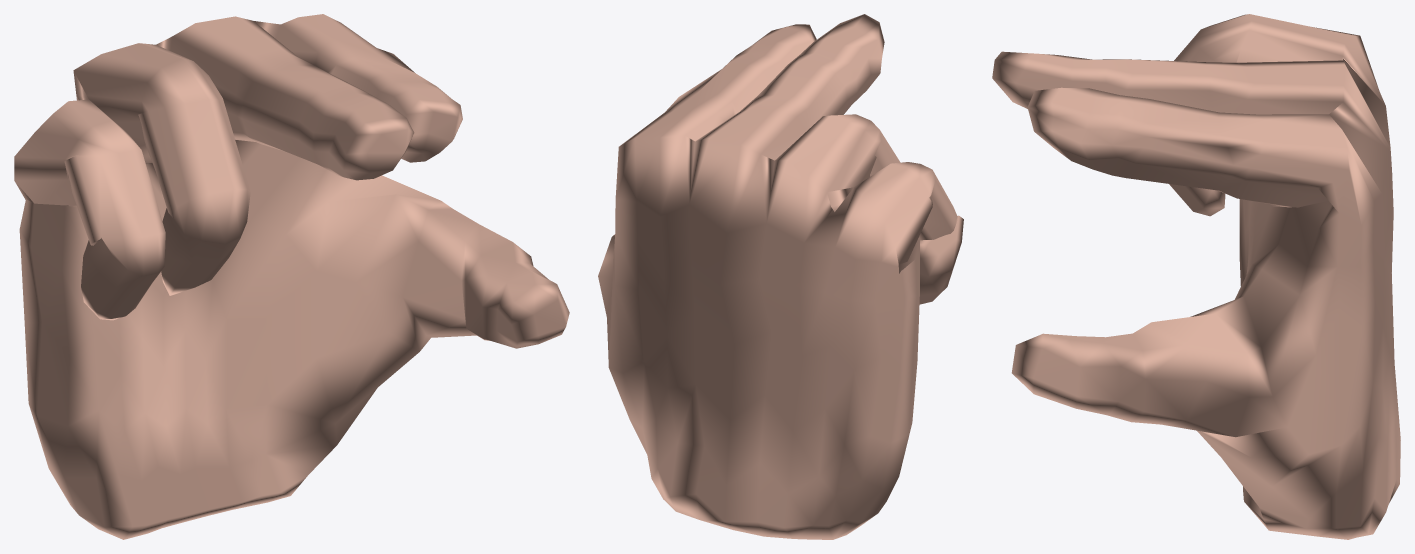
Rendered from MAO_PATO_ABERTA.obj.
3 renders of one model, left to right at view 1: azimuth 30°, elevation 25°; view 2: azimuth 150°, elevation 25°; view 3: azimuth 270°, elevation 25°, orthographic. The views are drawn at different scales.
Parts seen in each view (by area): view 1: mao_dir:mao_dir; view 2: mao_dir:mao_dir; view 3: mao_dir:mao_dir.
Part boxes in pixels (bbox=[...]): mao_dir:mao_dir: bbox=[14, 14, 569, 539]; mao_dir:mao_dir: bbox=[598, 14, 963, 539]; mao_dir:mao_dir: bbox=[992, 14, 1400, 539].
Bounding box in the file's own units: 142 × 154 × 124.
